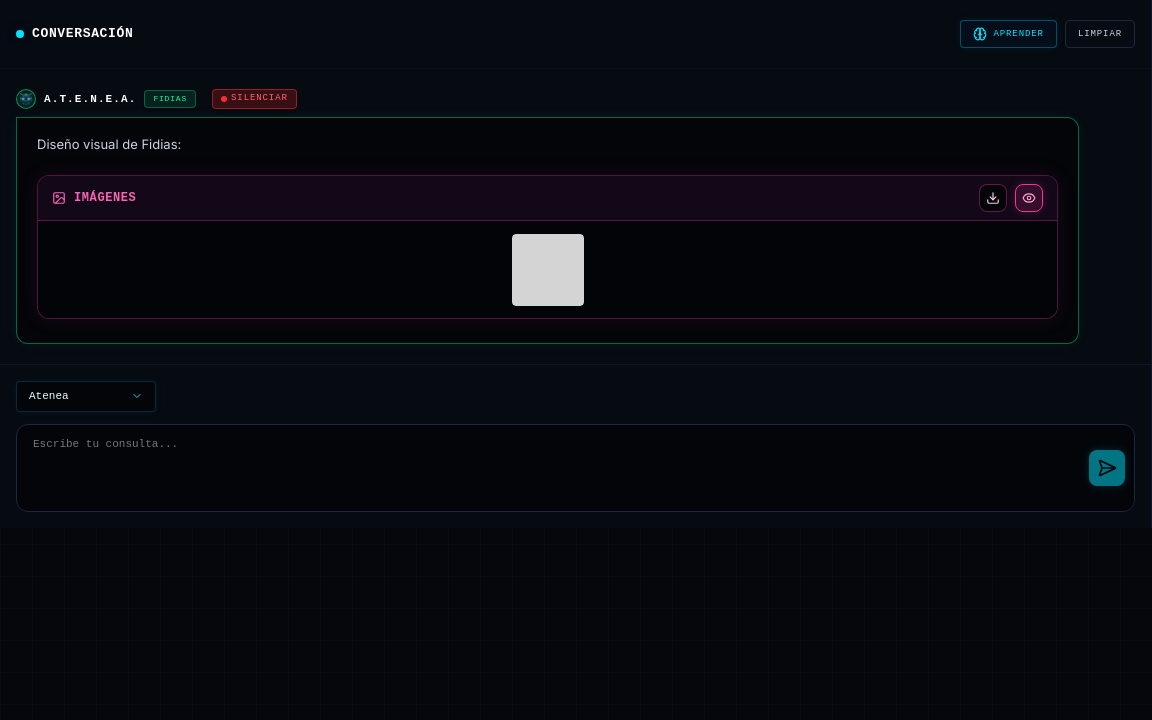
Test: ChatPanel.vue › renders image card and opens ImageModal when clicking preview or Ver button
Expected: the element with test id "chat-image-card" is shown, [37, 175, 1058, 319]
What coordinates should you click on to do the following:
click the button with test id "chat-image-view-btn"
I would click on:
 (1029, 198)
Its box is [1015, 184, 1043, 212].
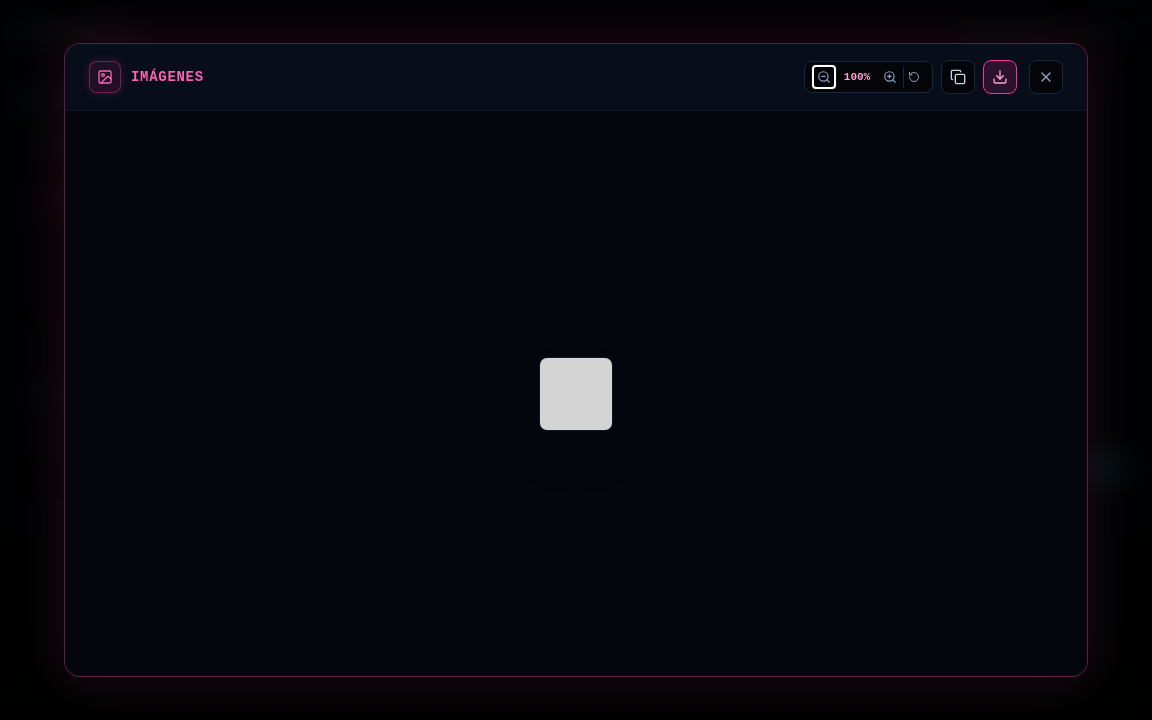
Now the dialog with test id "image-modal-backdrop" is shown
